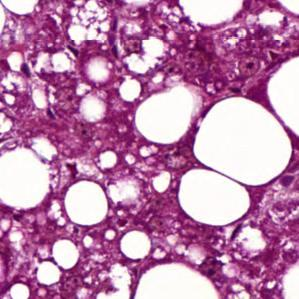steatosis: (194, 99, 293, 183), (61, 181, 114, 229)
